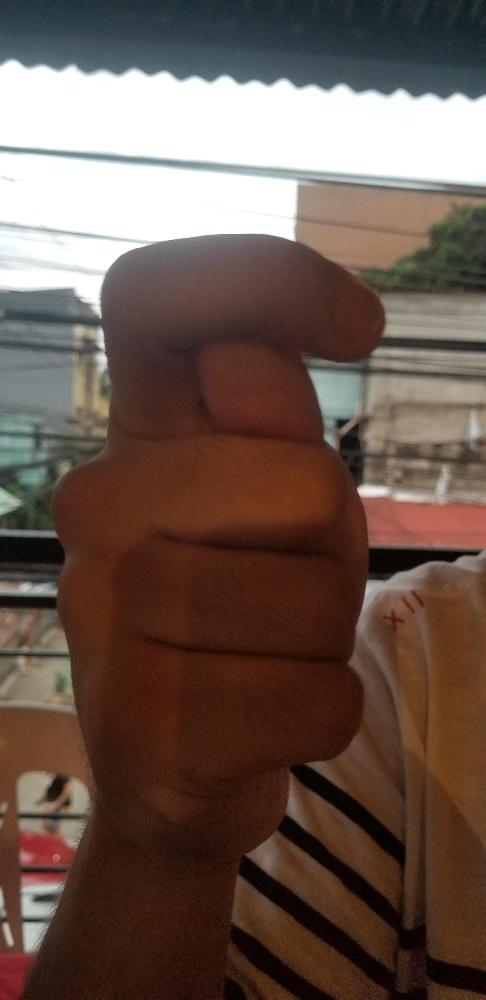t: (50, 227, 385, 853)
